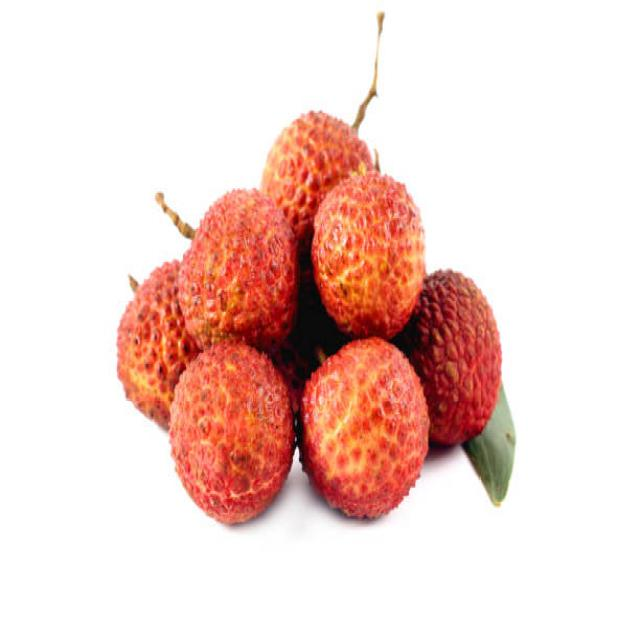lychee: (146, 112, 508, 524)
